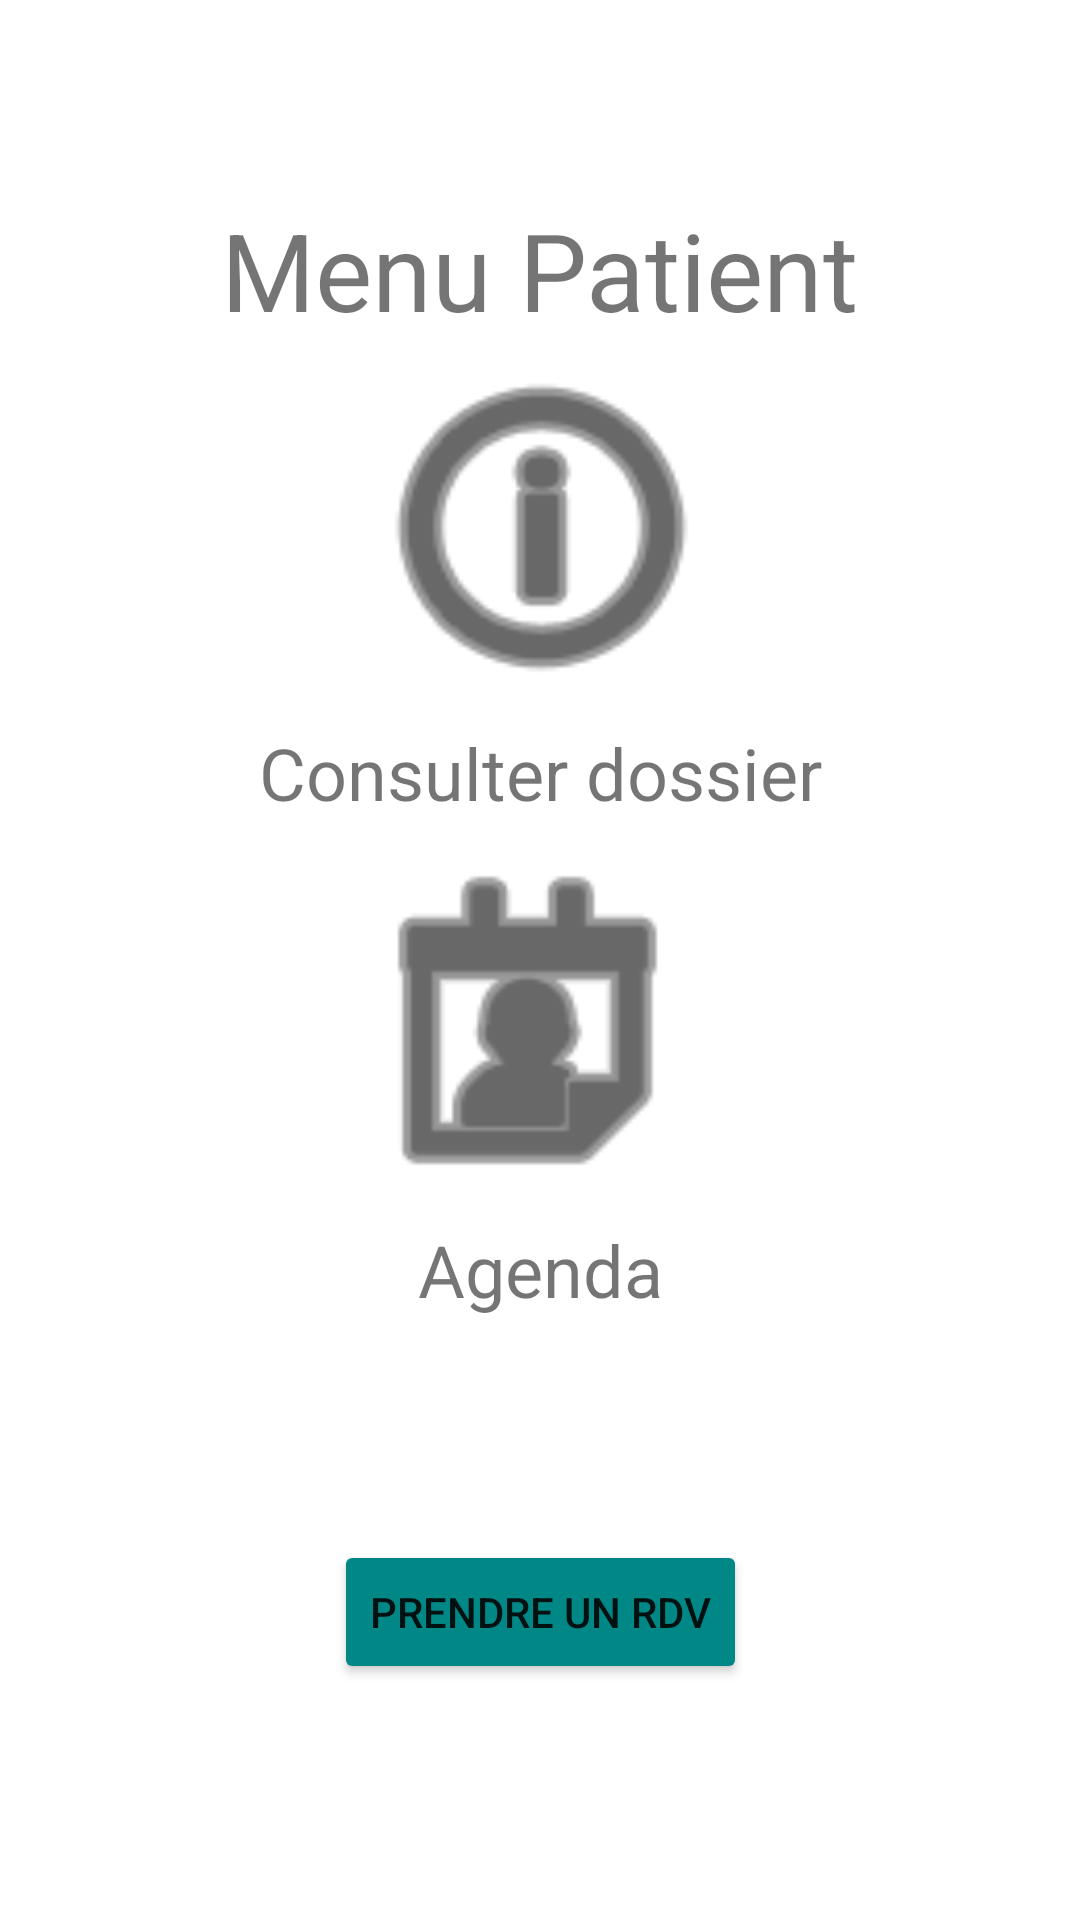

Where to tap for icons on this 1080 x 1920 app screen, as (x,y):
info details: (541,528)
